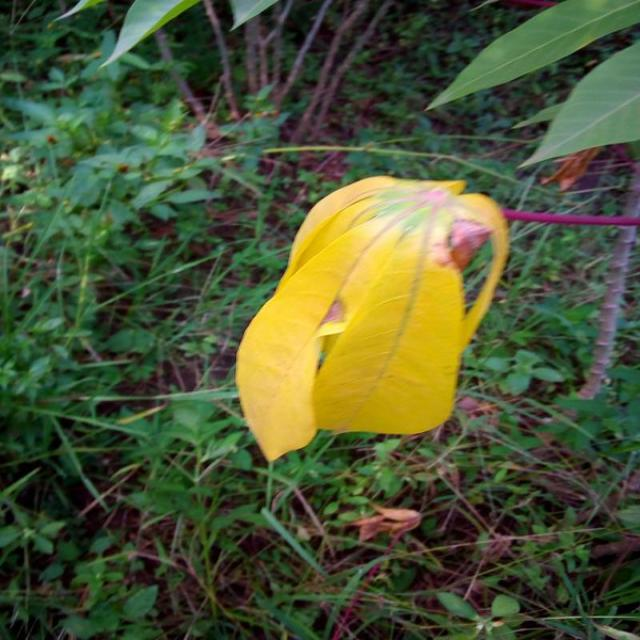cassava leaf: (234, 173, 508, 463)
